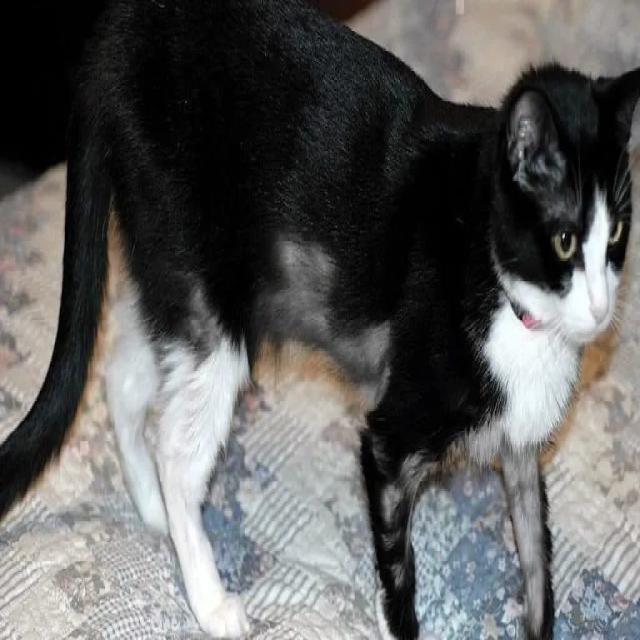cat-hairloss: (282, 255, 383, 376)
